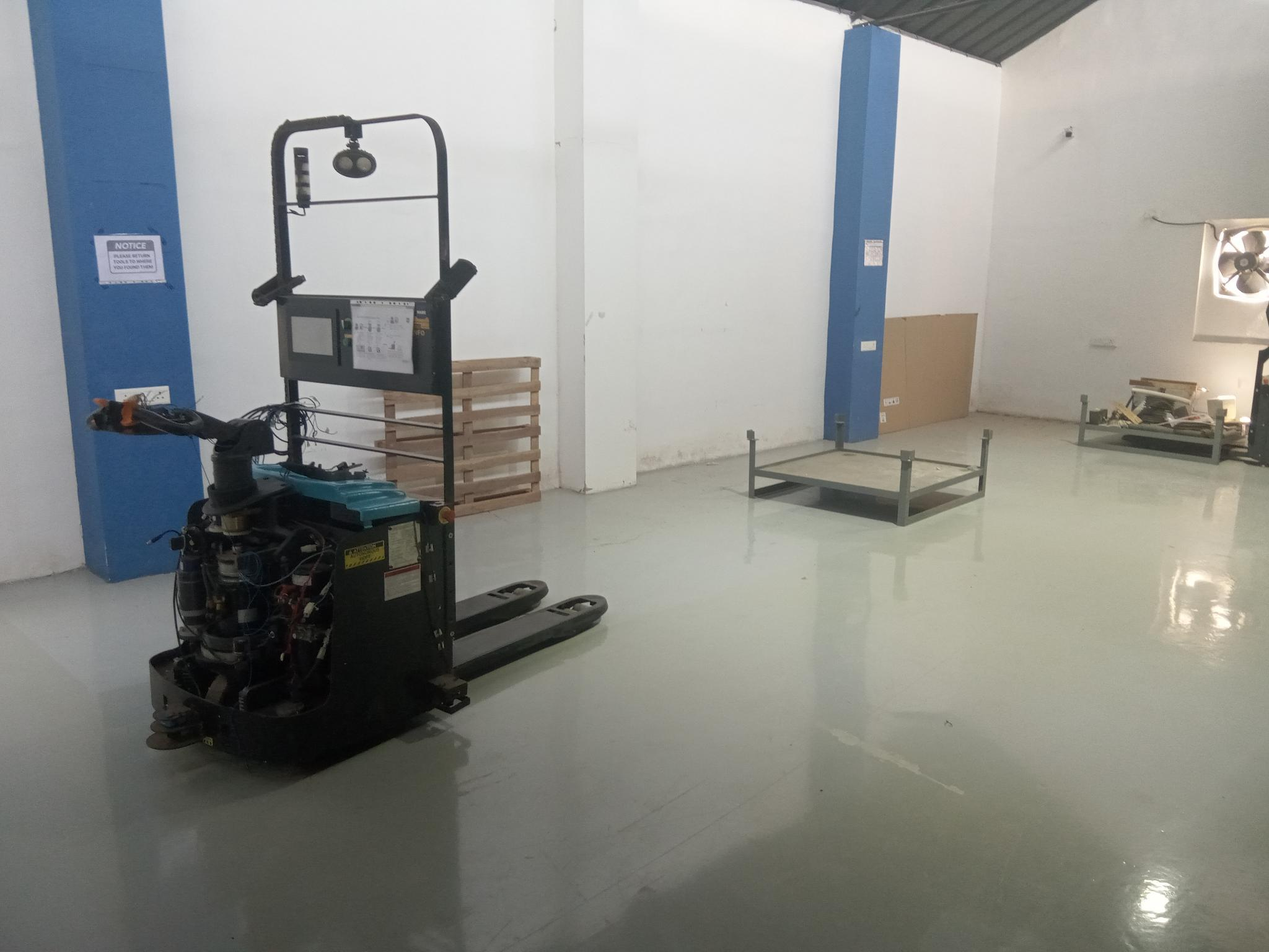pallet: (741, 405, 1006, 532)
